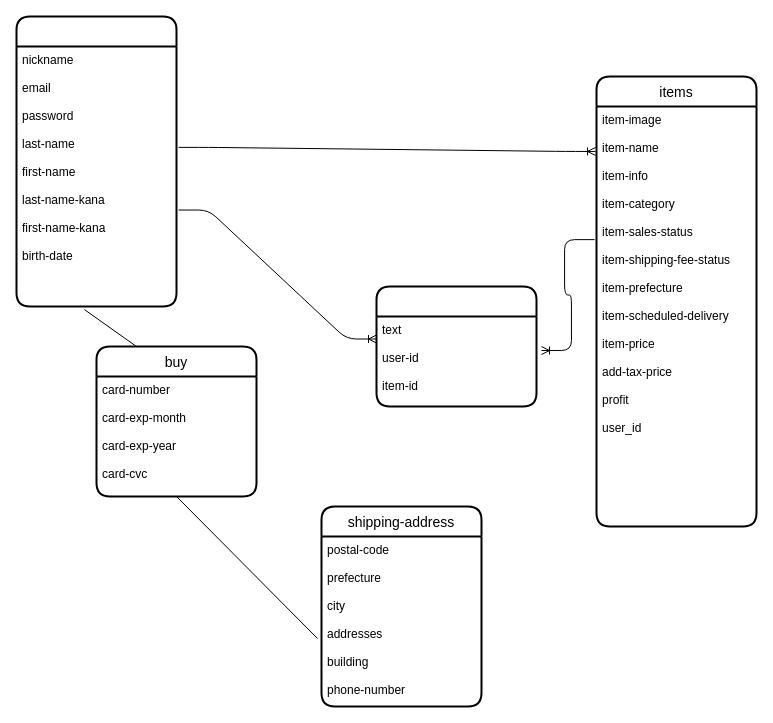
Image size: 773x723. Some labels were removed from this diagram. Each missing label, with the box of its shape:
comment: (375, 285, 537, 407)
users: (15, 15, 177, 307)
